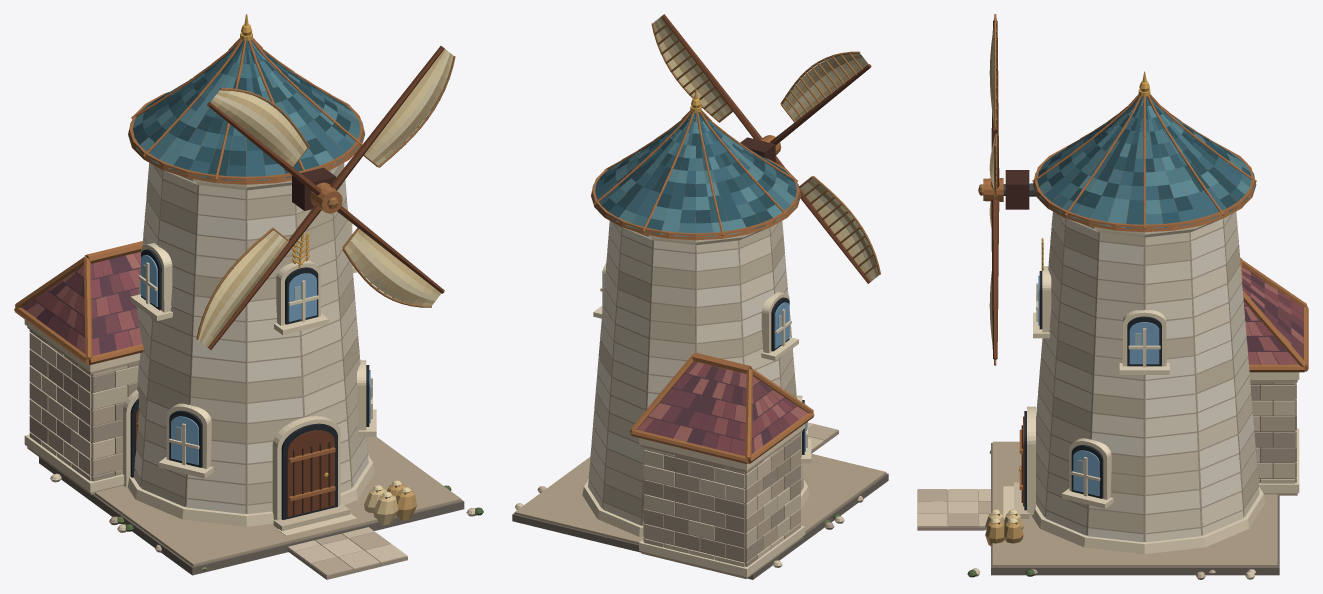
The model's file is windmill-nivel-6.glb.
3 views of the same model, side by side, from view 1: azimuth 30°, elevation 25°; view 2: azimuth 150°, elevation 25°; view 3: azimuth 270°, elevation 25° (orthographic). The views are drawn at different scales.
Visible parts, largest first — view 1: Moinho de vento 06 #e8dcc5, Moinho de vento 06 #e6d7ba, Moinho de vento 06 #ded1b9, Moinho de vento 06 #cec1a8, Moinho de vento 06 #b4a38a, Moinho de vento 06 #eae1ce, Moinho de vento 06 #a76e42, Moinho de vento 06 #b3a390, Pás do moinho #e8d5a6.005, Pás do moinho #cfb788.005, Moinho de vento 06 #c1af99, Moinho de vento 06 #d3c3a9 (+24 smaller); view 2: Moinho de vento 06 #e8dcc5, Moinho de vento 06 #a76e42, Moinho de vento 06 #b4a38a, Moinho de vento 06 #cec1a8, Moinho de vento 06 #eae1ce, Moinho de vento 06 #ae9d8b, Moinho de vento 06 #e6d7ba, Moinho de vento 06 #c1af99, Moinho de vento 06 #ded1b9, Moinho de vento 06 #b3a390, Moinho de vento 06 #305762, Moinho de vento 06 #54818b (+19 smaller); view 3: Moinho de vento 06 #ded1b9, Moinho de vento 06 #e8dcc5, Moinho de vento 06 #eae1ce, Moinho de vento 06 #e6d7ba, Moinho de vento 06 #b4a38a, Moinho de vento 06 #cec1a8, Moinho de vento 06 #b3a390, Moinho de vento 06 #a76e42, Moinho de vento 06 #294952, Moinho de vento 06 #46717c, Moinho de vento 06 #3b6472, Moinho de vento 06 #54818b (+18 smaller).
Part boxes in pixels (x1=…): Moinho de vento 06 #e8dcc5: x1=138, y1=163, x2=367, y2=504; Moinho de vento 06 #e6d7ba: x1=24, y1=170, x2=376, y2=535; Moinho de vento 06 #ded1b9: x1=137, y1=180, x2=363, y2=513; Moinho de vento 06 #cec1a8: x1=133, y1=163, x2=367, y2=506; Moinho de vento 06 #b4a38a: x1=27, y1=326, x2=461, y2=566; Moinho de vento 06 #eae1ce: x1=134, y1=163, x2=368, y2=513; Moinho de vento 06 #a76e42: x1=14, y1=38, x2=365, y2=501; Moinho de vento 06 #b3a390: x1=135, y1=165, x2=367, y2=513; Pás do moinho #e8d5a6.005: x1=198, y1=50, x2=453, y2=345; Pás do moinho #cfb788.005: x1=199, y1=49, x2=452, y2=347; Moinho de vento 06 #c1af99: x1=29, y1=349, x2=390, y2=575; Moinho de vento 06 #d3c3a9: x1=29, y1=332, x2=475, y2=569; Moinho de vento 06 #e8dcc5: x1=588, y1=223, x2=803, y2=525; Moinho de vento 06 #a76e42: x1=591, y1=110, x2=814, y2=463; Moinho de vento 06 #b4a38a: x1=514, y1=430, x2=886, y2=579; Moinho de vento 06 #cec1a8: x1=598, y1=223, x2=803, y2=516; Moinho de vento 06 #eae1ce: x1=590, y1=221, x2=803, y2=507; Moinho de vento 06 #ae9d8b: x1=643, y1=430, x2=838, y2=566; Moinho de vento 06 #e6d7ba: x1=582, y1=228, x2=811, y2=576; Moinho de vento 06 #c1af99: x1=537, y1=424, x2=863, y2=549; Moinho de vento 06 #ded1b9: x1=589, y1=221, x2=803, y2=525; Moinho de vento 06 #b3a390: x1=589, y1=222, x2=802, y2=525; Moinho de vento 06 #305762: x1=593, y1=112, x2=800, y2=234; Moinho de vento 06 #54818b: x1=610, y1=115, x2=798, y2=236; Moinho de vento 06 #ded1b9: x1=1036, y1=211, x2=1259, y2=533; Moinho de vento 06 #e8dcc5: x1=1036, y1=212, x2=1259, y2=542; Moinho de vento 06 #eae1ce: x1=1036, y1=214, x2=1258, y2=542; Moinho de vento 06 #e6d7ba: x1=1003, y1=219, x2=1299, y2=554; Moinho de vento 06 #b4a38a: x1=992, y1=380, x2=1297, y2=567; Moinho de vento 06 #cec1a8: x1=1036, y1=216, x2=1258, y2=533; Moinho de vento 06 #b3a390: x1=1036, y1=213, x2=1257, y2=541; Moinho de vento 06 #a76e42: x1=1019, y1=94, x2=1308, y2=489; Moinho de vento 06 #294952: x1=1034, y1=96, x2=1238, y2=211; Moinho de vento 06 #46717c: x1=1035, y1=97, x2=1255, y2=228; Moinho de vento 06 #3b6472: x1=1040, y1=96, x2=1242, y2=225; Moinho de vento 06 #54818b: x1=1035, y1=97, x2=1253, y2=227.
Bounding box in the file's own units: 6.13 × 9.47 × 7.44.
